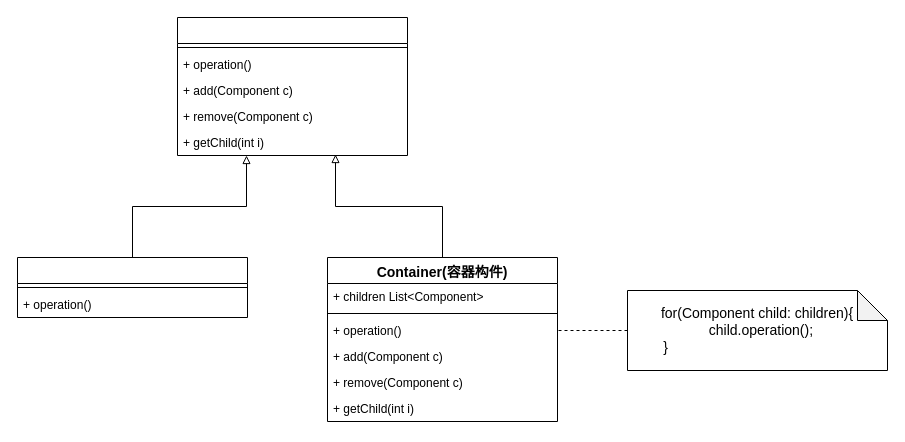
The diagram is 905 pixels wide and 442 high, and some of its shapes have lost their labels. Here are the shapes that lost their labels. From the top down, the box of each, then its label:
(176, 16, 408, 156): Component(抽象构件)
(16, 256, 248, 318): Leaf(叶子构件)
